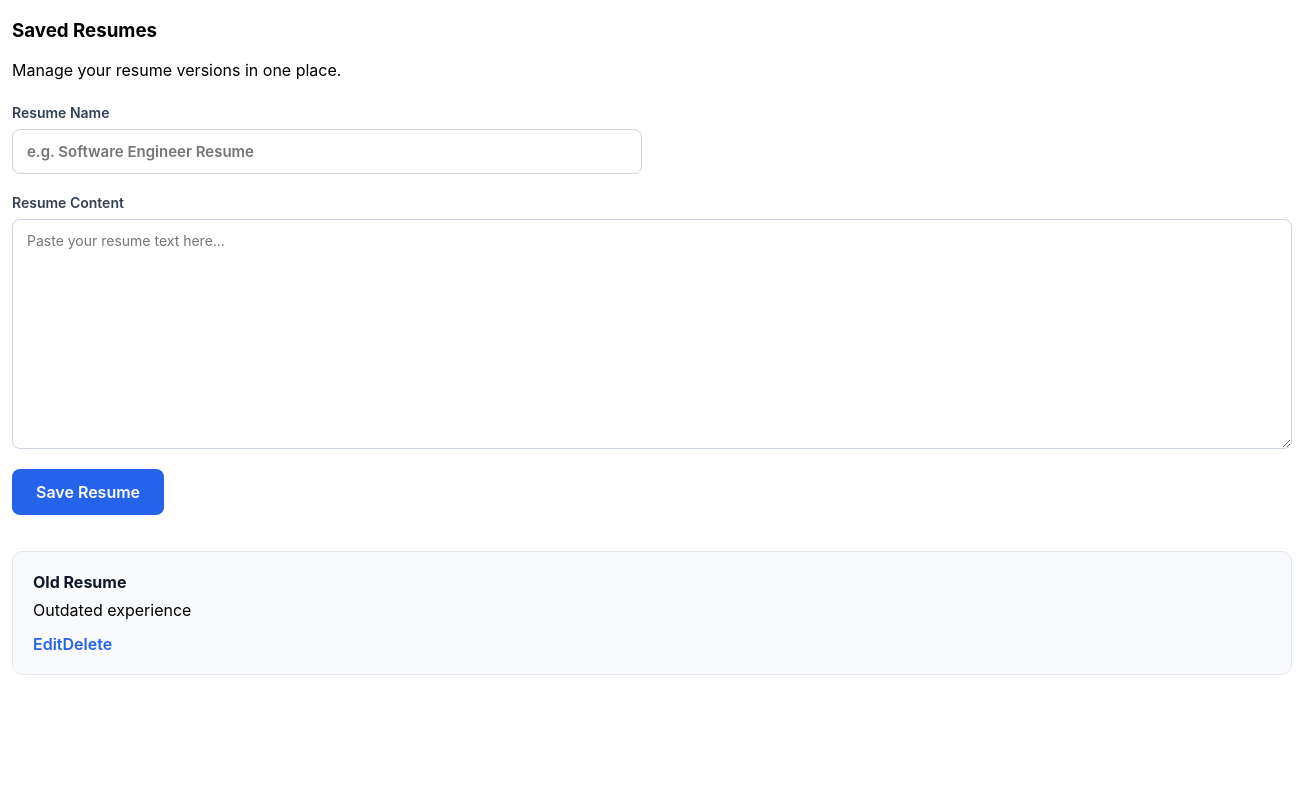
Test: ResumeLibrary › deletes a resume after confirmation
Expected: the heading "Old Resume" is shown, [33,572,126,592]
Click the button "Delete" at [87, 644], box [62,634,112,654]
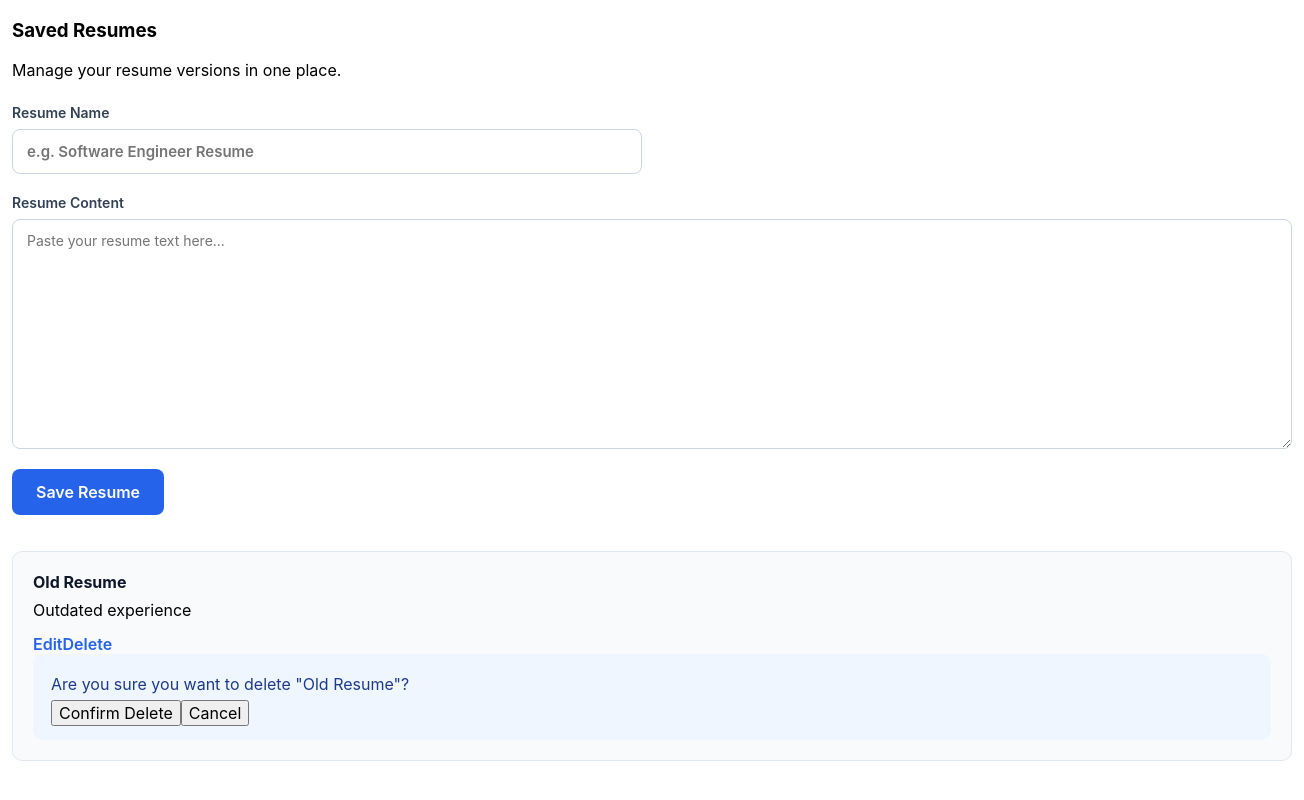
Expected: the text "Are you sure you want to delete \"Old Resume\"?" is shown, [51,674,409,694]
Click the button "Confirm Delete" at [116, 713], box [51,700,181,726]
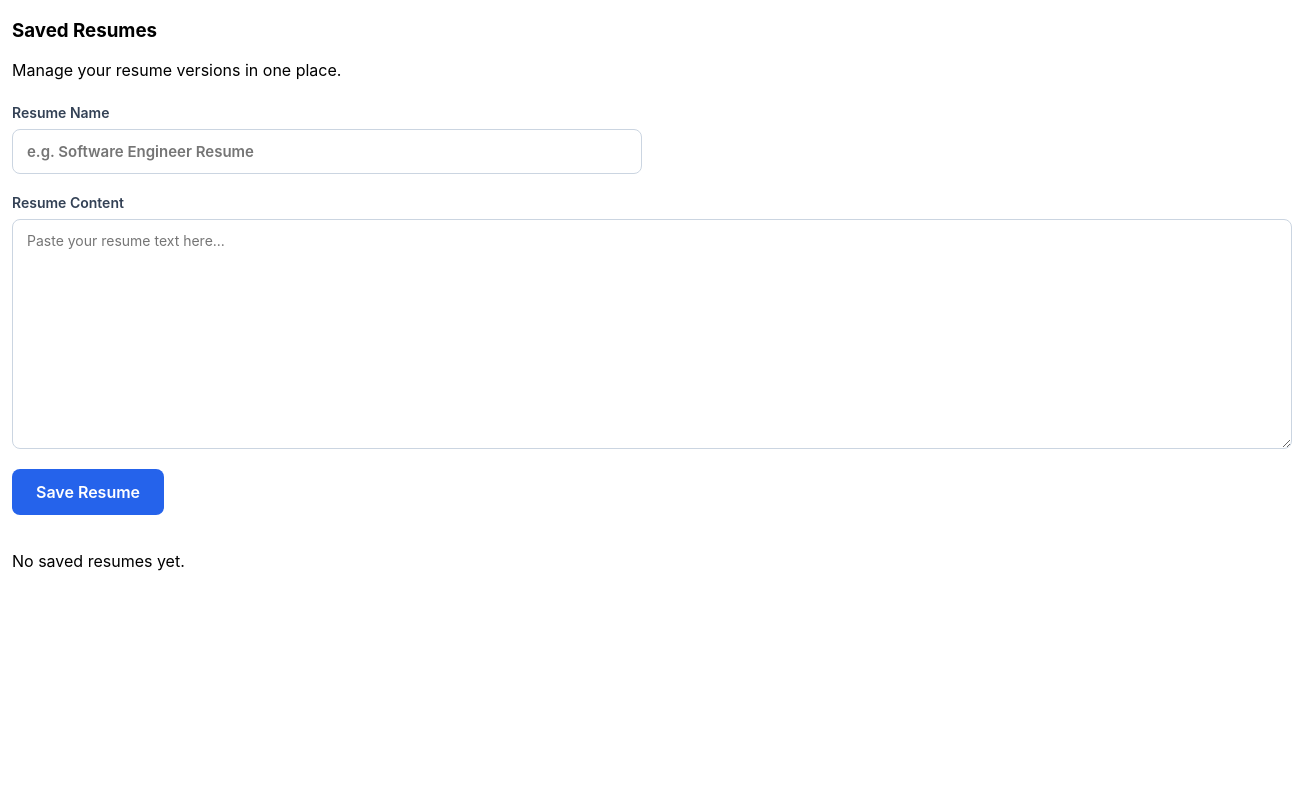
Expected: the text "No saved resumes yet." is shown, [12,551,185,571]
Expected: the heading "Old Resume" is gone
